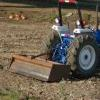Tractor: (38, 1, 100, 84)
